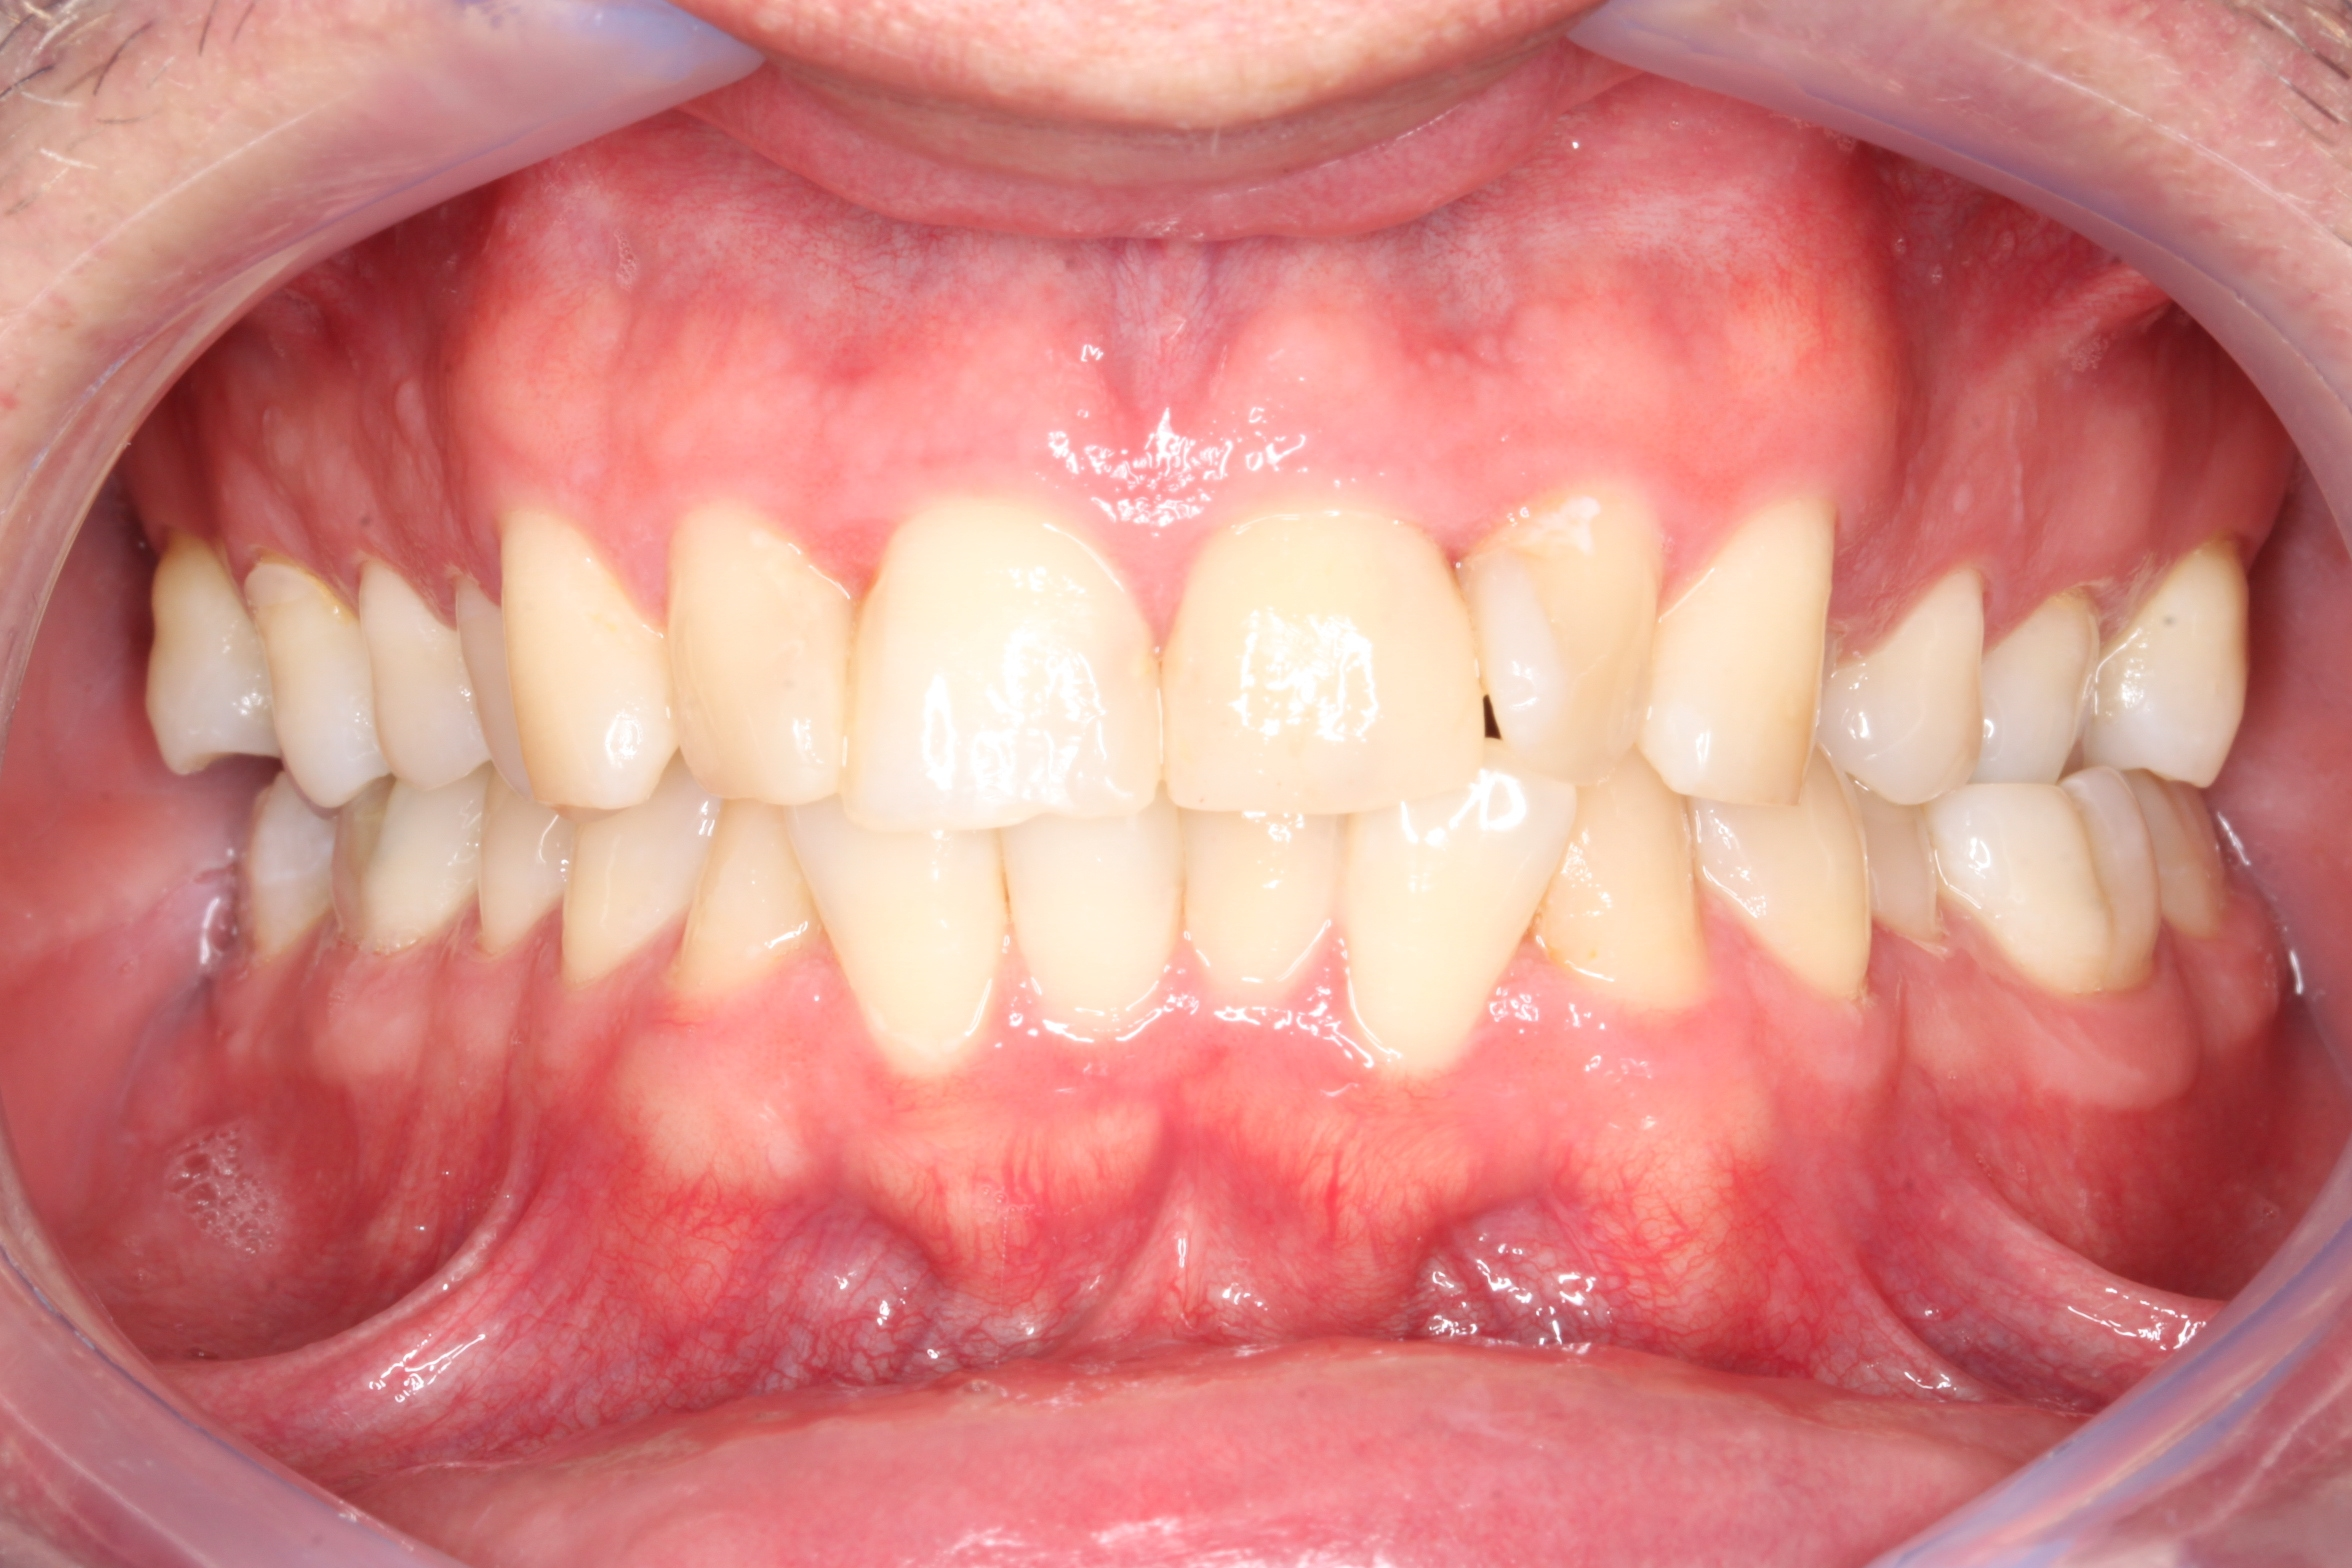LL1BC_healthy: (1710, 803, 1872, 1010)
LL1M_healthy: (1941, 800, 2156, 990)
LL2BC_healthy: (1871, 803, 1935, 957)
LL2M_healthy: (2145, 782, 2228, 933)
LLCI_healthy: (1185, 803, 1339, 999)
LLC_healthy: (1556, 796, 1701, 1004)
LLLI_healthy: (1347, 794, 1561, 1073)
LR1BC_healthy: (569, 805, 691, 975)
LR1M_mdecay: (341, 805, 472, 948)
LR2BC_healthy: (476, 817, 563, 950)
LR2M_mdecay: (234, 782, 334, 954)
LRCI_healthy: (1008, 824, 1179, 1032)
LRC_healthy: (689, 805, 800, 999)
LRLI_healthy: (794, 805, 1004, 1062)
UL1BC_healthy: (1834, 570, 1981, 803)
UL1M_mdecay: (2110, 537, 2243, 782)
UL2BC_healthy: (1984, 597, 2095, 779)
ULCI_healthy: (1167, 521, 1480, 805)
ULC_mdecay: (1661, 506, 1830, 800)
ULLI_mdecay: (1486, 507, 1661, 761)
UR1BC_healthy: (451, 591, 506, 805)
UR1M_mdecay: (252, 565, 373, 812)
UR2BC_healthy: (367, 569, 474, 786)
UR2M_healthy: (145, 551, 262, 780)
URCI_healthy: (849, 520, 1164, 831)
URC_healthy: (500, 541, 675, 808)
URLI_healthy: (674, 525, 849, 801)
